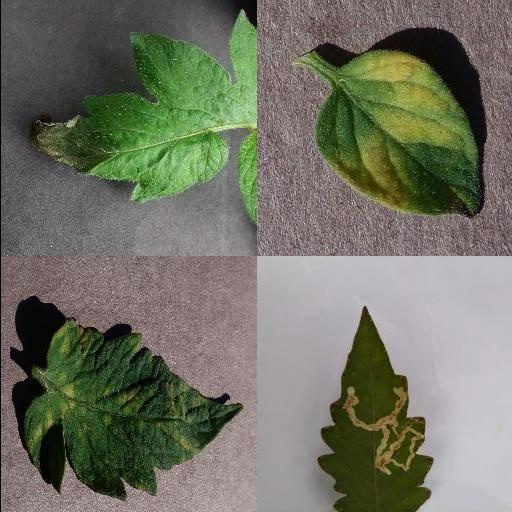Late Blight: (26, 9, 256, 205)
Leaf Miner: (315, 303, 435, 512)
Leaf Mold: (21, 318, 243, 502), (317, 50, 485, 218)
